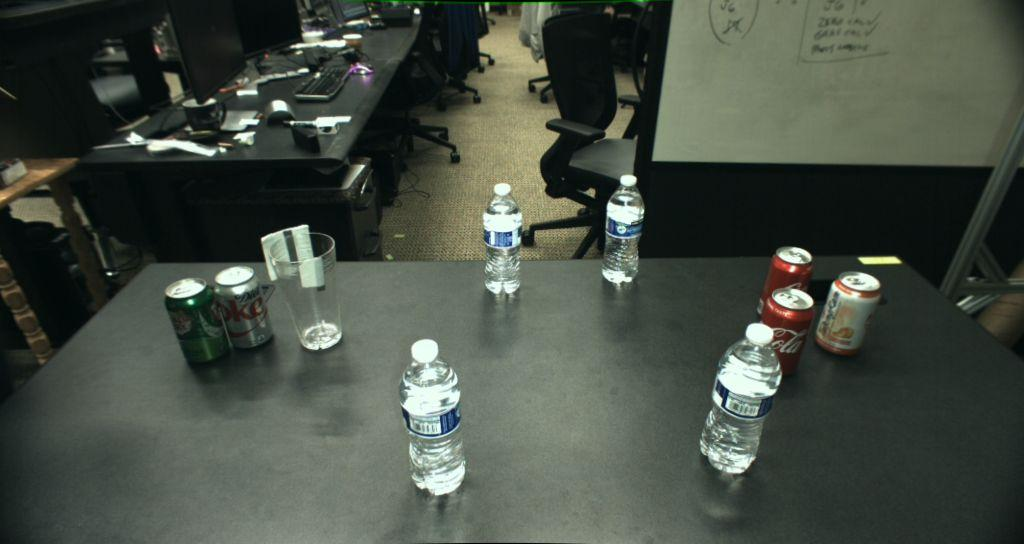can_diet_coke: (214, 264, 276, 350)
can_ginger_ale: (165, 277, 231, 367)
can_talking_rain_peach_nectarine: (815, 272, 879, 355)
water_bottle: (700, 322, 782, 473), (398, 339, 466, 495), (601, 174, 644, 284), (483, 183, 522, 294)
